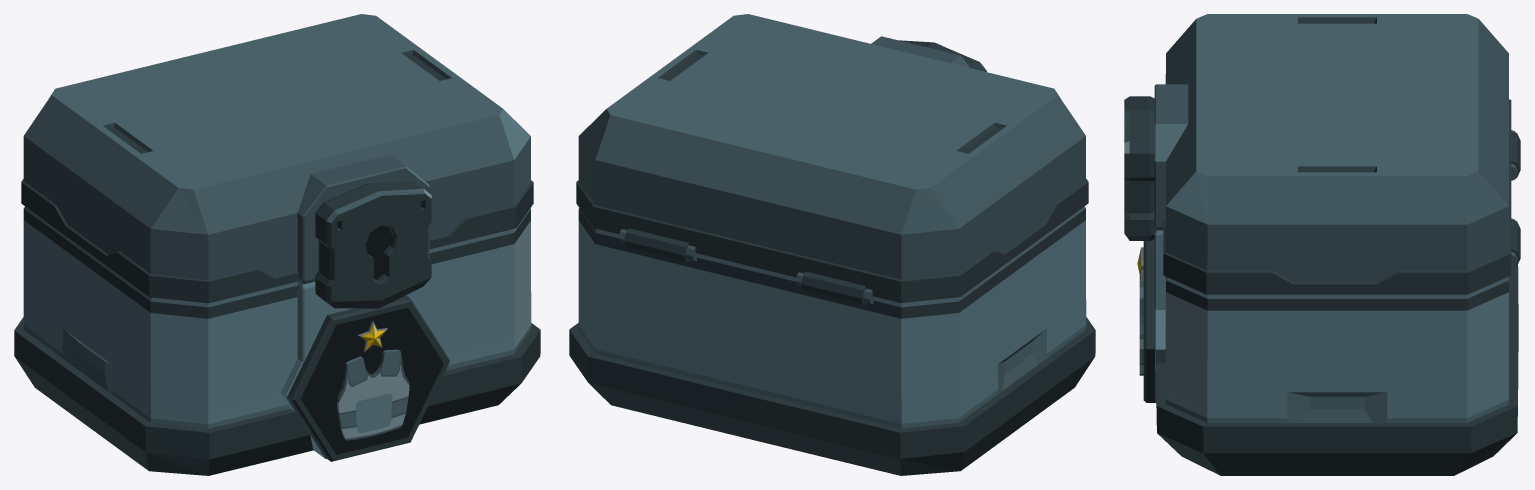
The model's file is BOX_GEAR_G1_01.fbx.
3 views of the same model, side by side, from view 1: azimuth 30°, elevation 25°; view 2: azimuth 150°, elevation 25°; view 3: azimuth 270°, elevation 25° (orthographic). The views are drawn at different scales.
Visible parts, largest first — view 1: Object003, BOX_GEAR_G1_01, Object004; view 2: Object003, BOX_GEAR_G1_01; view 3: Object003, BOX_GEAR_G1_01, Object004.
Part boxes in pixels (x1,y1,x2,y2): Object003: (21, 14, 533, 303); BOX_GEAR_G1_01: (14, 206, 540, 475); Object004: (315, 181, 431, 308); Object003: (576, 14, 1088, 304); BOX_GEAR_G1_01: (569, 206, 1095, 475); Object003: (1154, 14, 1520, 294); BOX_GEAR_G1_01: (1137, 228, 1518, 475); Object004: (1124, 96, 1154, 240).
Size of the model in its own units: 187 by 128 by 158.
